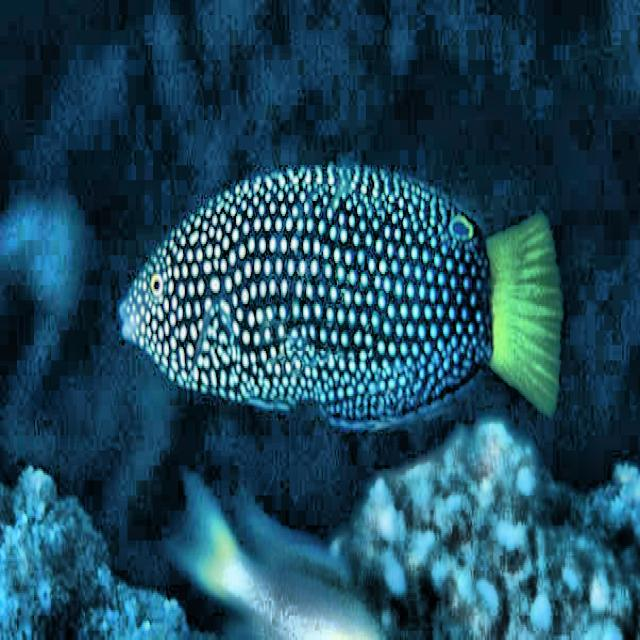fish: (120, 158, 562, 432)
